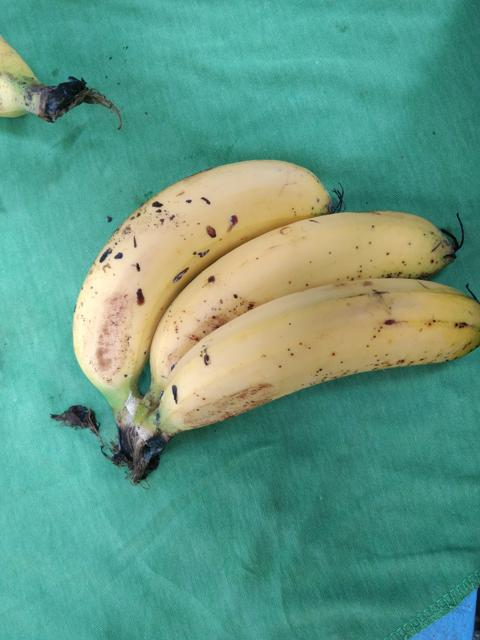ripe: (123, 202, 471, 395), (64, 146, 338, 391), (144, 273, 479, 439)
